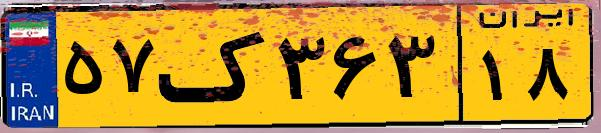1: (475, 38, 525, 113)
3: (270, 28, 330, 110), (385, 28, 445, 110)
5: (57, 26, 110, 100)
6: (330, 28, 385, 110)
7: (110, 28, 158, 98)
8: (525, 38, 570, 115)
ک: (158, 12, 270, 120)
